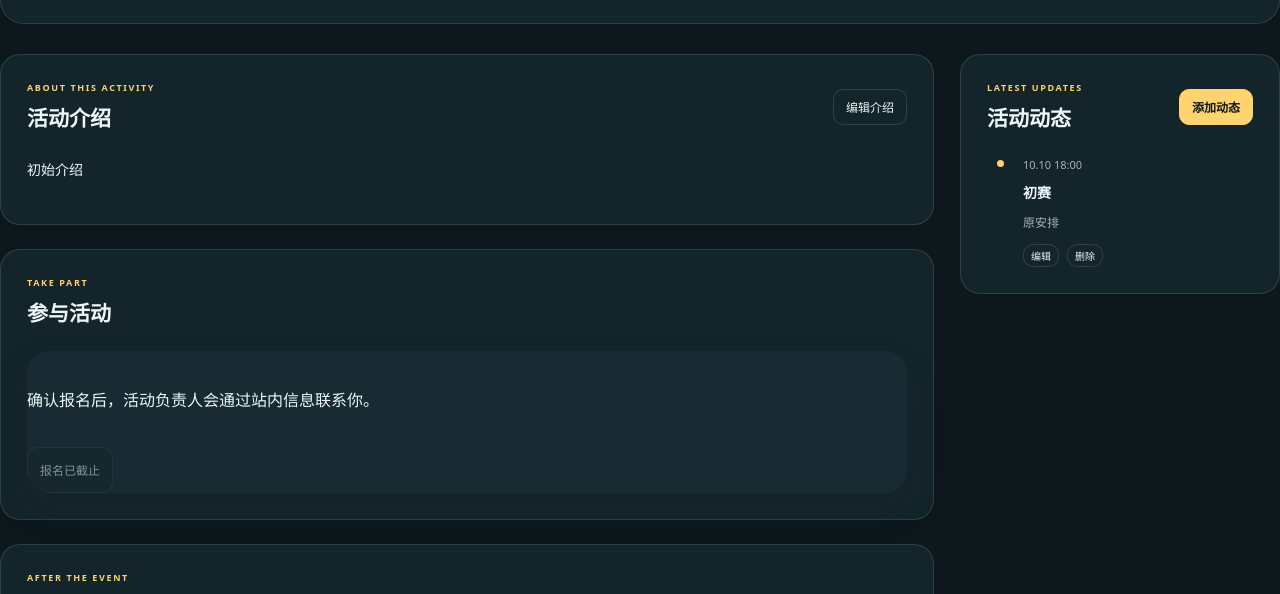
Scenario: independent activity workspace › edits an existing timeline update using its id and the current revision
(page scrolled)
Click the button with aria-label "编辑动态：初赛". click: (1041, 255)
box: [1023, 244, 1059, 267]
(page scrolled)
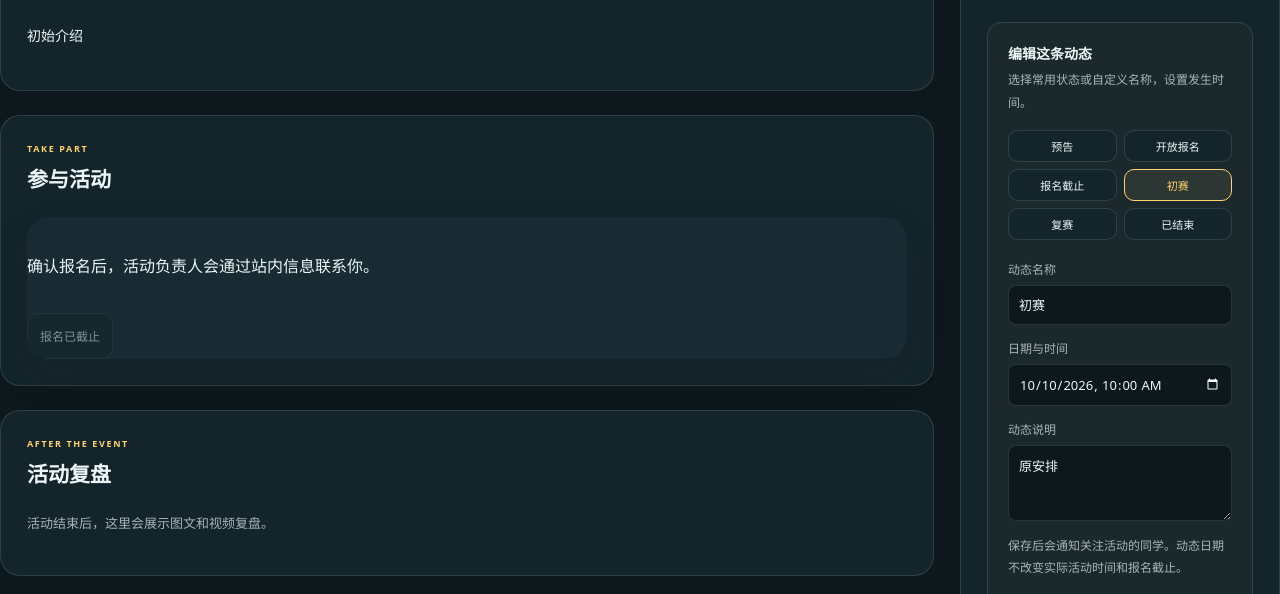
Result: the field labelled "动态名称" holds "初赛" at [1008, 285, 1232, 325]
Replace the text in the text box labelled "动态说明" with "新安排". click: (1120, 483)
box: [1008, 445, 1232, 521]
(page scrolled)
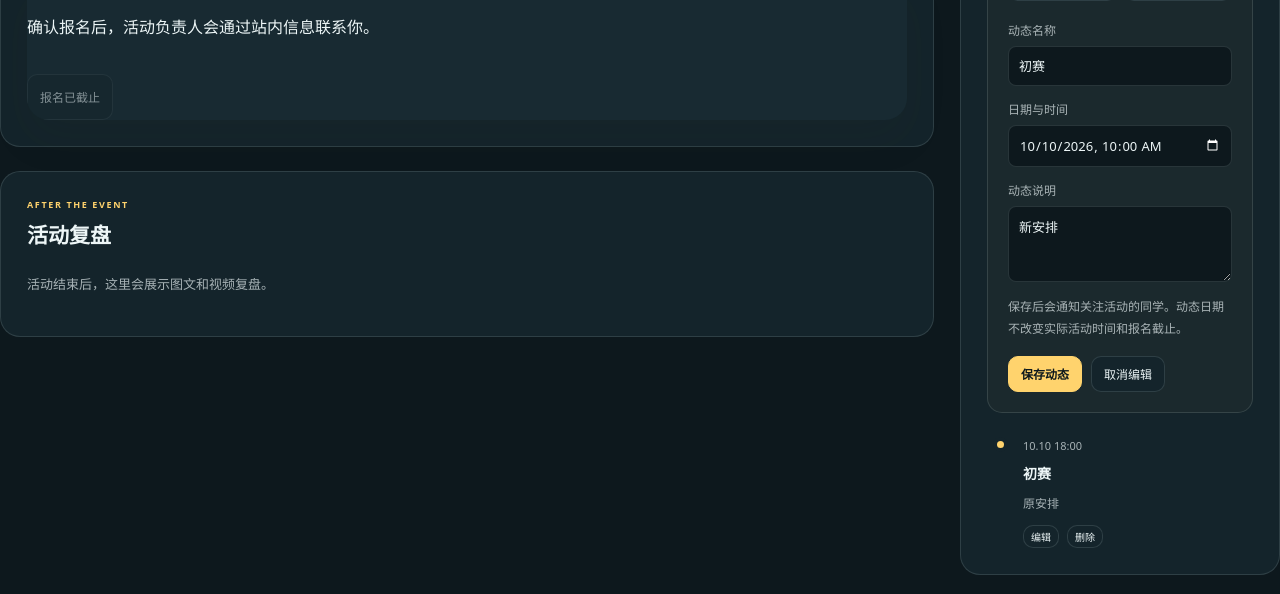
Click the button "保存动态". click: (1045, 374)
box: [1008, 356, 1082, 392]
(page scrolled)
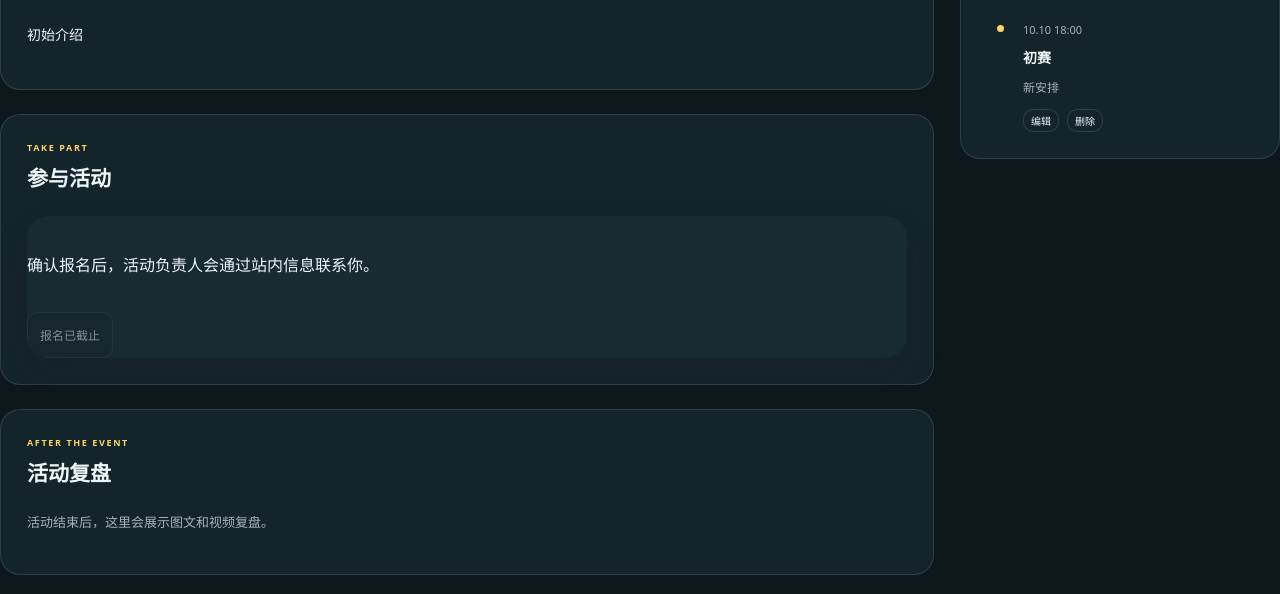
Result: the text labelled "动态说明" is gone
Result: the text "新安排" is shown at [1023, 79, 1059, 96]
